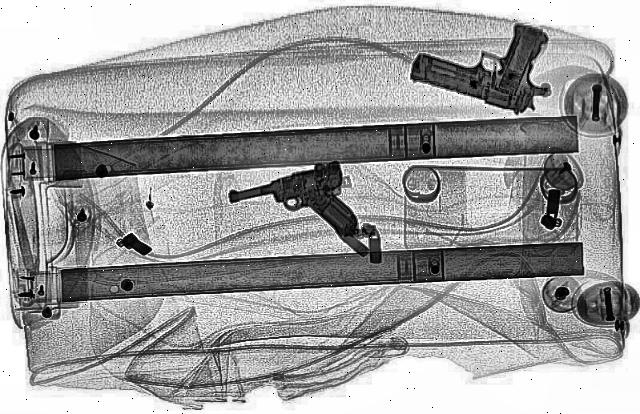Gun: (396, 5, 592, 117), (216, 160, 377, 253)
